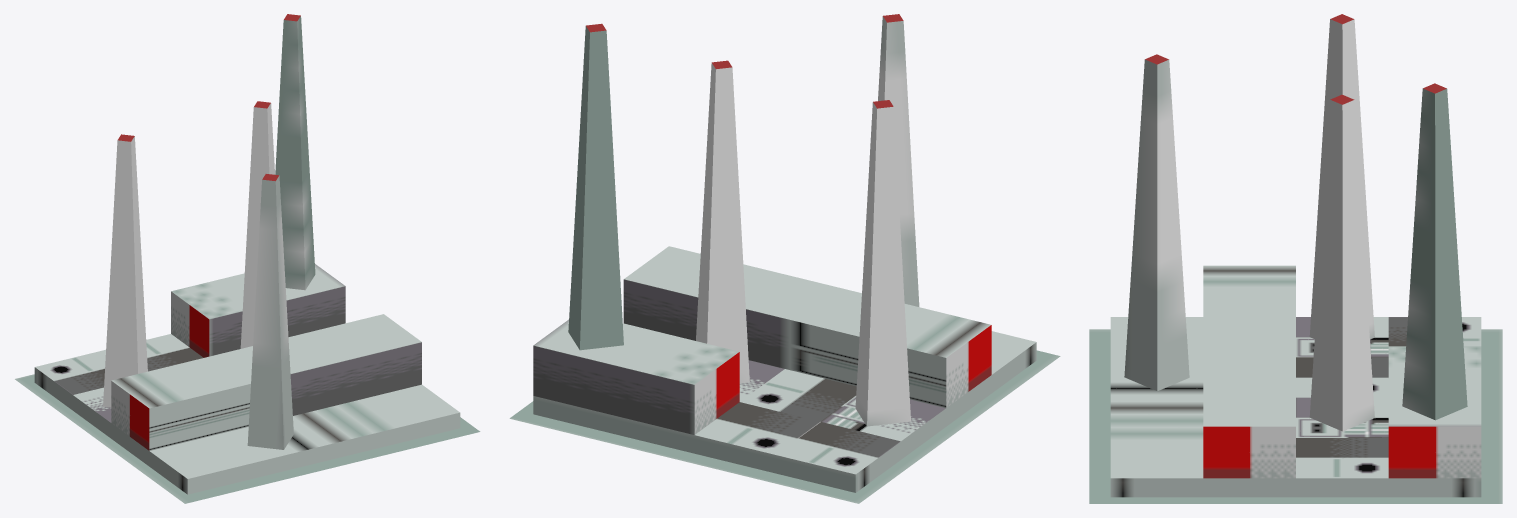
File: Bld_Oil_Refinery_Wide.fbx
The picture shows the model from 3 angles, left to right: view 1: azimuth 30°, elevation 25°; view 2: azimuth 150°, elevation 25°; view 3: azimuth 270°, elevation 25°; orthographic projection. The views are drawn at different scales.
Parts seen in each view (by area): view 1: BLD_OilRefinery_Wide; view 2: BLD_OilRefinery_Wide; view 3: BLD_OilRefinery_Wide.
Part boxes in pixels (left/top/right/bottom): BLD_OilRefinery_Wide: left=15, top=14, right=480, bottom=503; BLD_OilRefinery_Wide: left=509, top=14, right=1060, bottom=503; BLD_OilRefinery_Wide: left=1089, top=14, right=1502, bottom=503.
Size of the model in its own units: 801 by 801 by 832.
